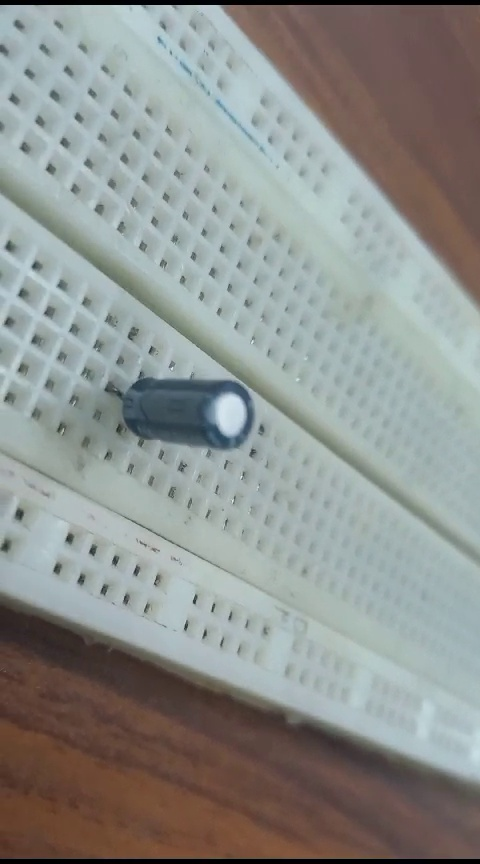capacitor: (94, 349, 267, 467)
